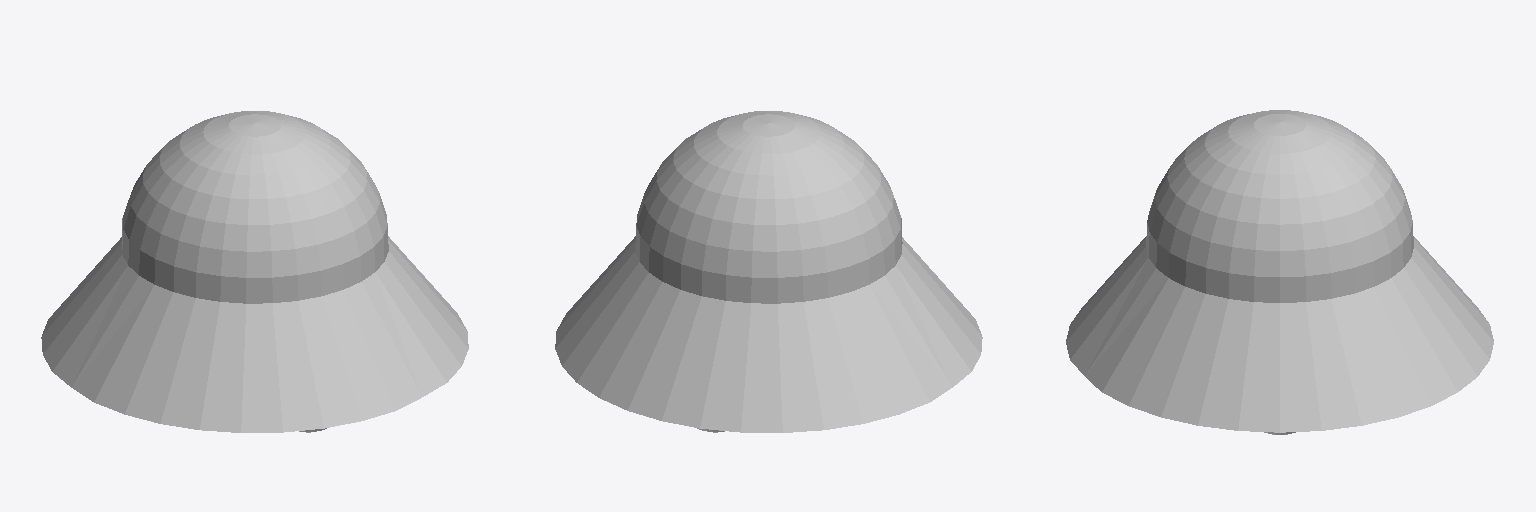
The model's file is enemy_Body.obj.
The picture shows the model from 3 angles: view 1: azimuth 30°, elevation 25°; view 2: azimuth 150°, elevation 25°; view 3: azimuth 270°, elevation 25°; orthographic projection.
Visible parts, largest first — view 1: body; view 2: body; view 3: body.
Part boxes in pixels (left/top/right/bottom): body: left=41, top=111, right=468, bottom=432; body: left=555, top=111, right=982, bottom=432; body: left=1066, top=110, right=1493, bottom=432.
Bounding box in the file's own units: 2.01 × 1.39 × 2.02.